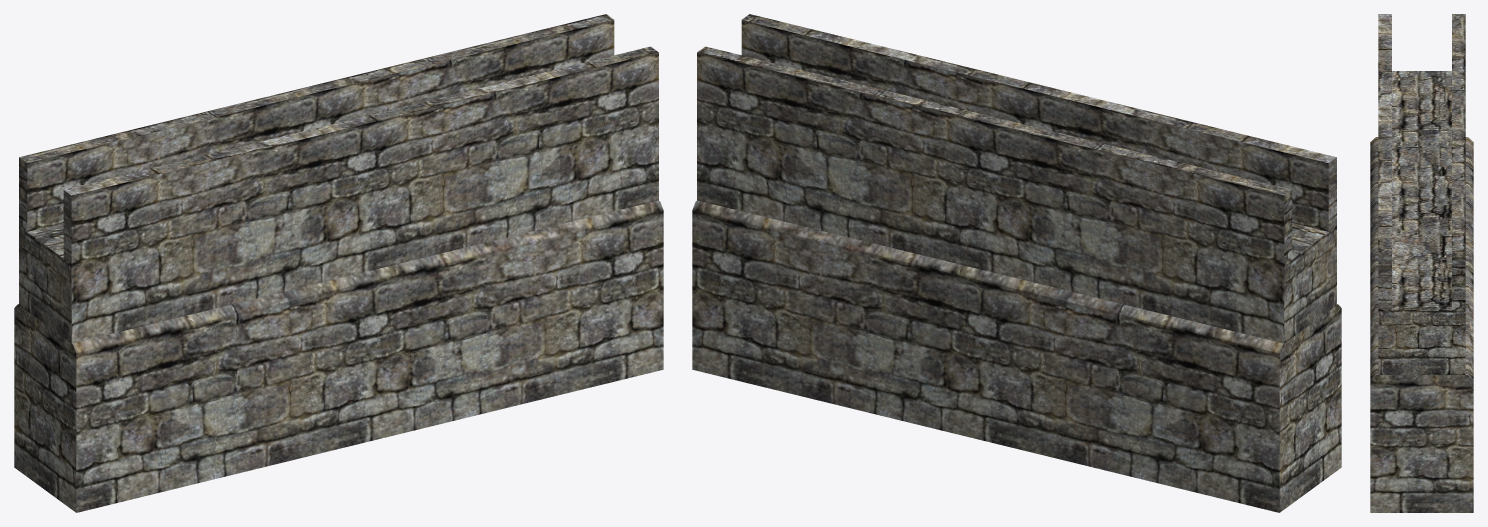
The model's file is inca_wall_long.dae.
The picture shows the model from 3 angles, left to right: view 1: azimuth 30°, elevation 25°; view 2: azimuth 150°, elevation 25°; view 3: azimuth 270°, elevation 25°; orthographic projection. The views are drawn at different scales.
Parts seen in each view (by area): view 1: wall_inca_long; view 2: wall_inca_long; view 3: wall_inca_long.
Boxes of the visible parts, box(x1,y1,x2,y2) form: wall_inca_long: box(14, 14, 663, 512); wall_inca_long: box(692, 14, 1341, 512); wall_inca_long: box(1370, 14, 1473, 512).
Bounding box in the file's own units: 31.68 × 5.8 × 16.18.
